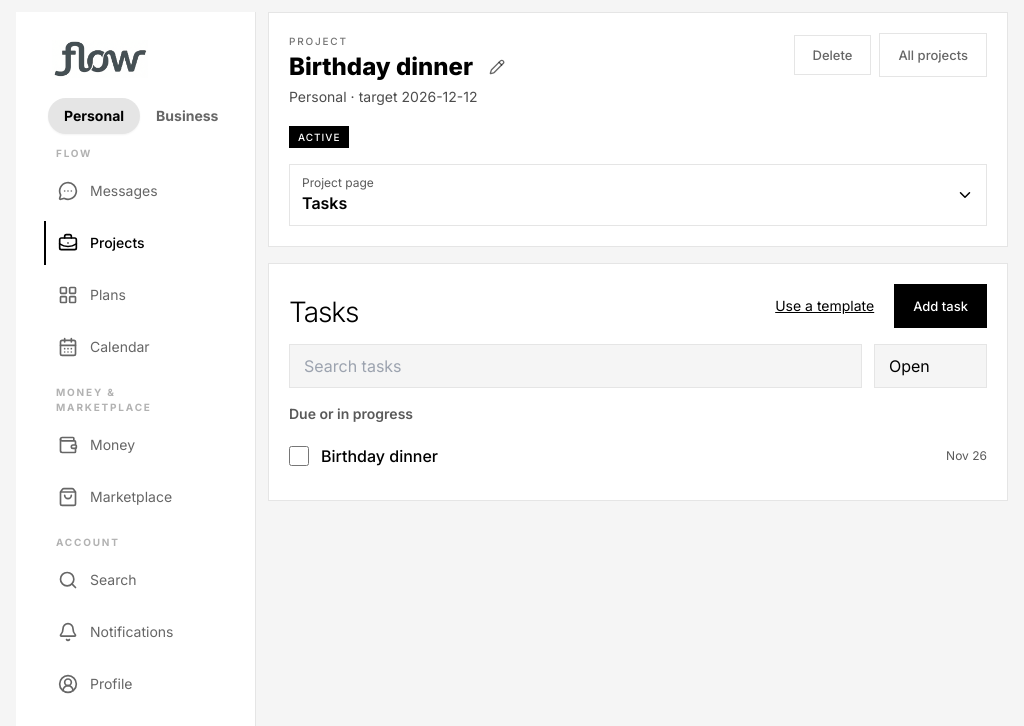
Test: lets the compact project chooser reach every section without leaving the project
Click the heading named "Project page: Tasks".
click(338, 182)  # box [290,165,986,225]
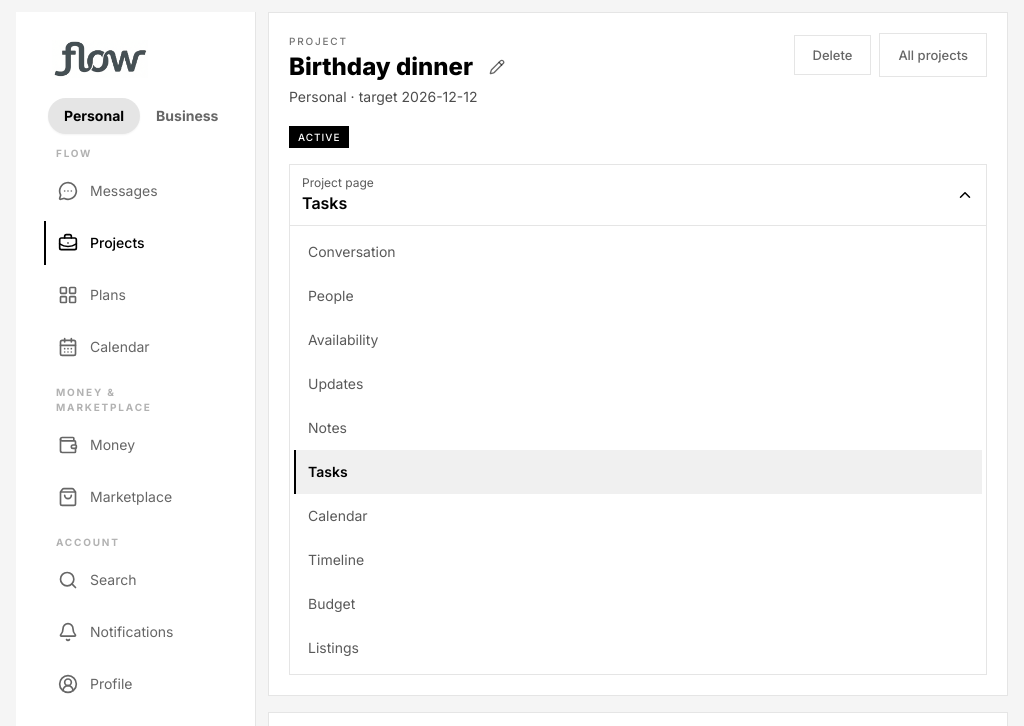
Now the element named "Project page: Tasks" has attribute open, box [289,164,987,675]
Click the link "Availability".
click(343, 340)  # box [308,331,378,348]
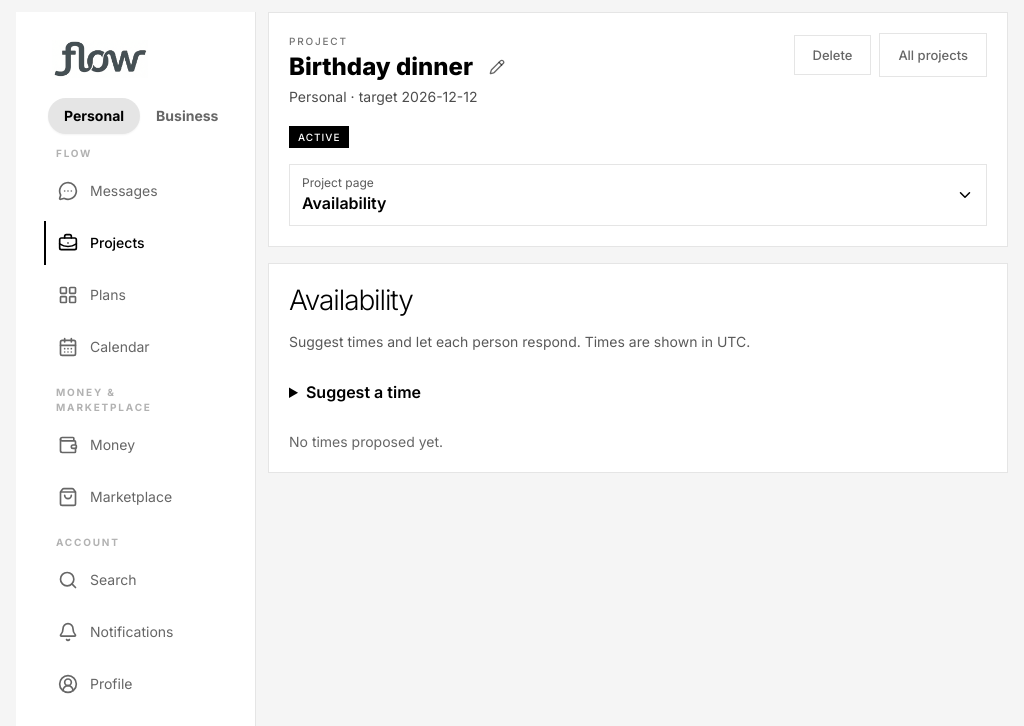
Now the element named "Project page: Availability" does not have attribute open
Click the heading named "Project page: Availability".
click(338, 182)  # box [290,165,986,225]
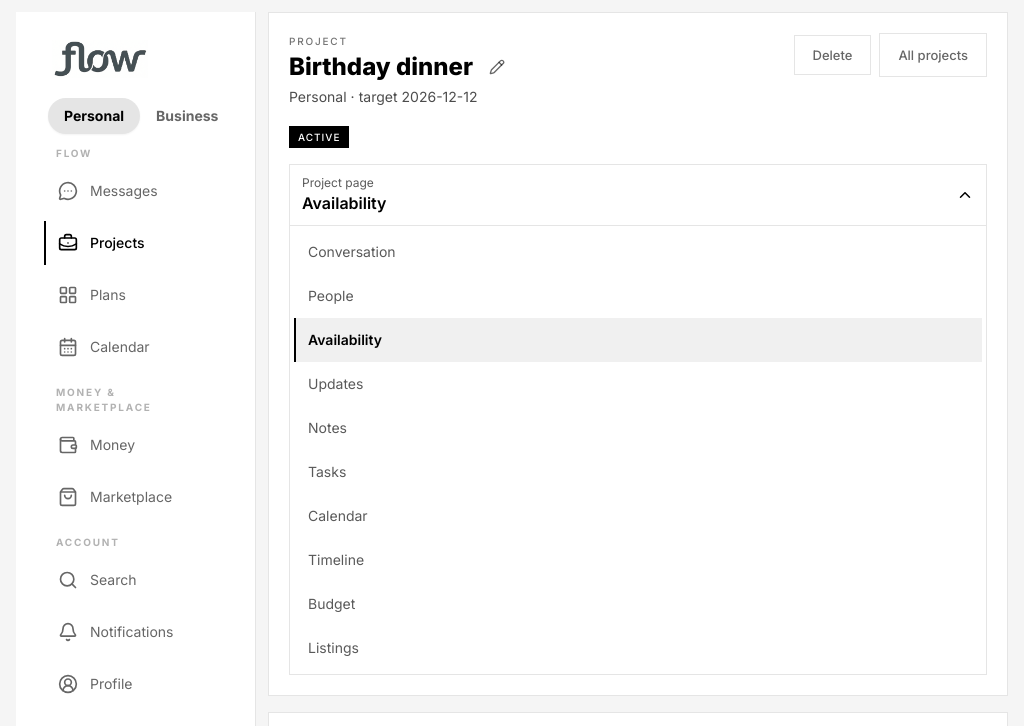
Click the link "Budget".
click(332, 604)  # box [308,595,355,612]
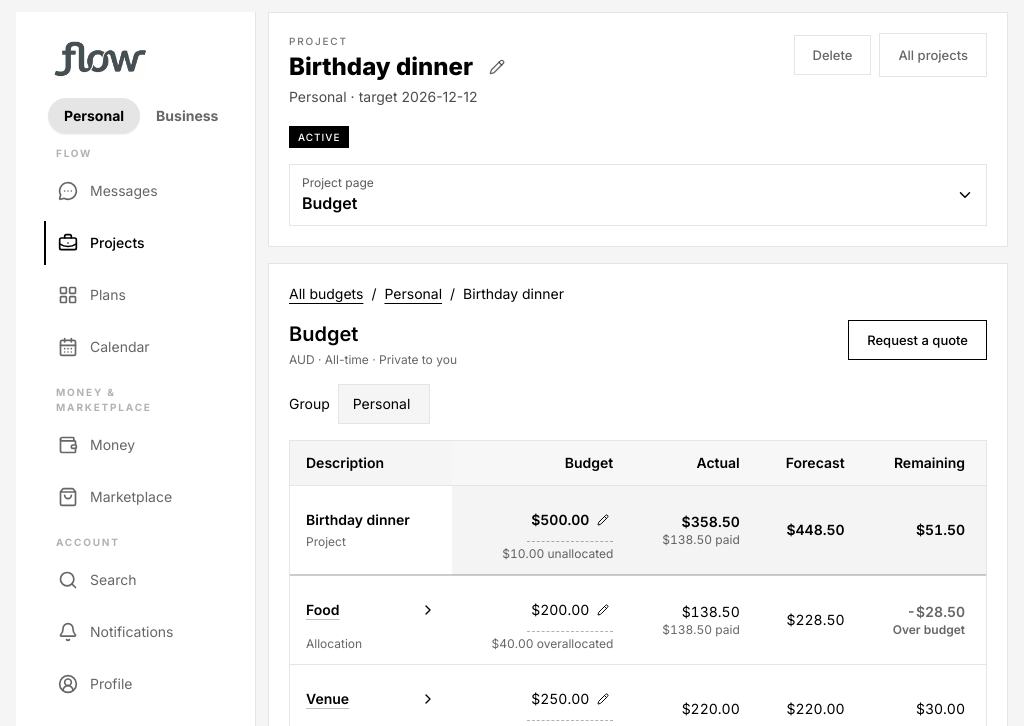
Now the heading named "Project page: Budget" is shown, box [290,165,986,225]
